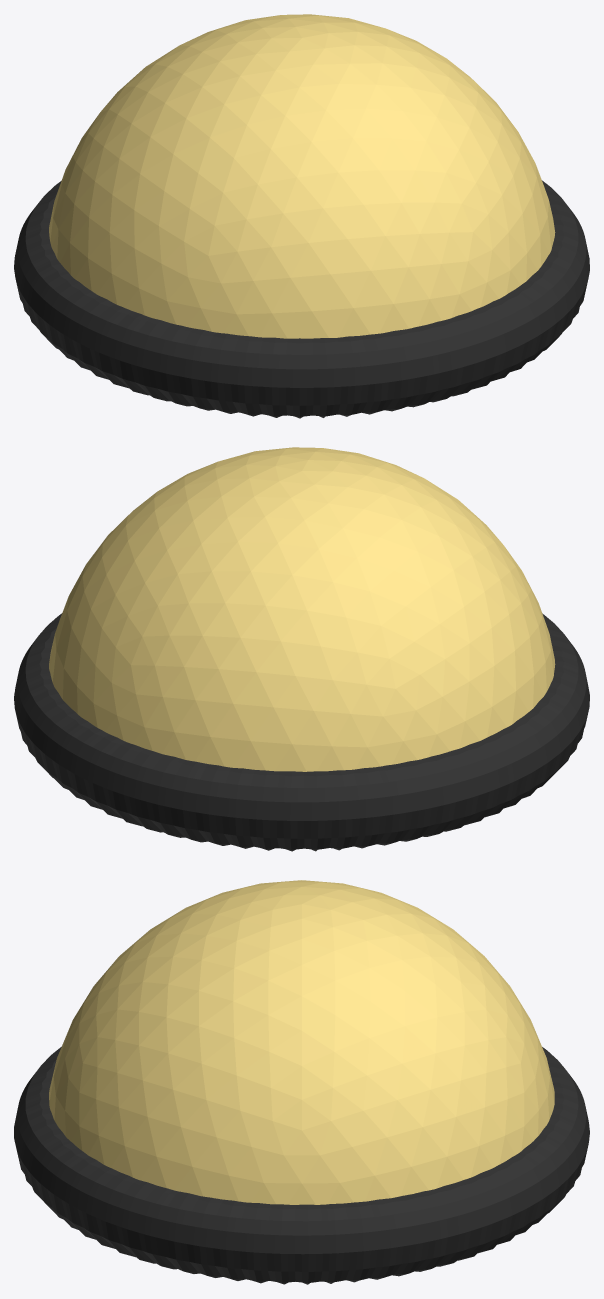
File: Lights.fbx
The picture shows the model from 3 angles, top to bottom: view 1: azimuth 30°, elevation 25°; view 2: azimuth 150°, elevation 25°; view 3: azimuth 270°, elevation 25°; orthographic projection.
Parts seen in each view (by area): view 1: Icosphere; view 2: Icosphere; view 3: Icosphere.
Boxes of the visible parts, <box> form: Icosphere: <box>14,14,589,418</box>; Icosphere: <box>14,447,589,851</box>; Icosphere: <box>14,880,589,1284</box>.
Bounding box in the file's own units: 291 × 170 × 291.
